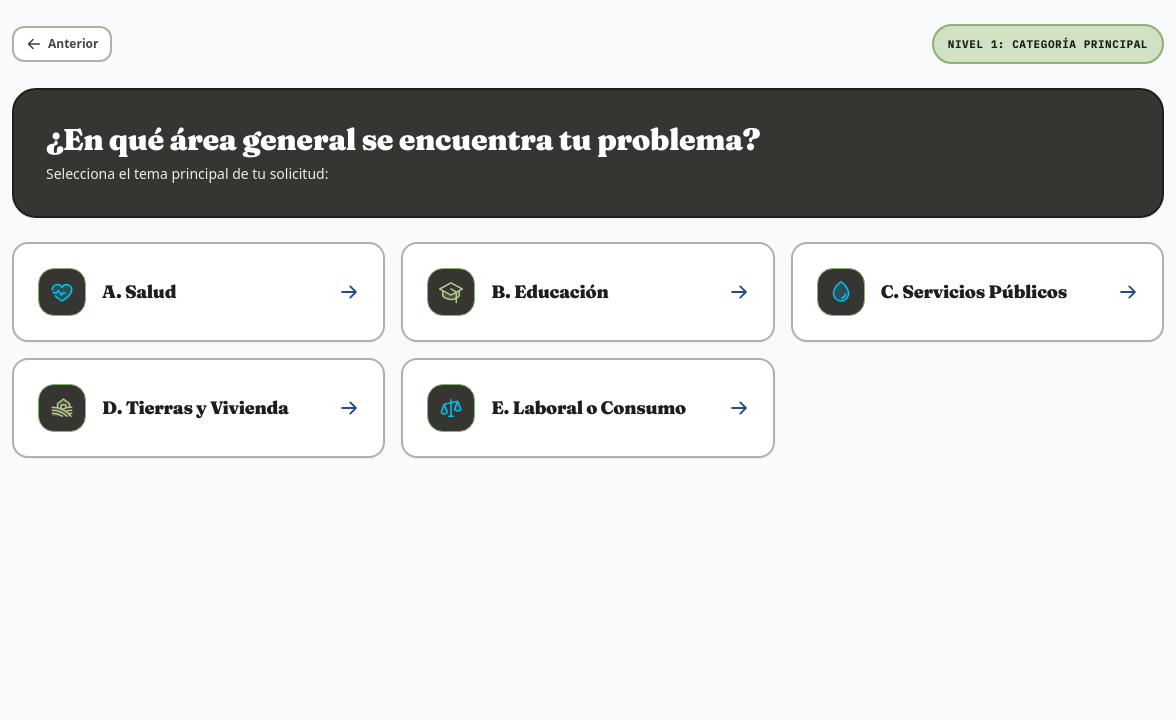
it: WizardForm Feature & Acceptance Criteria (R4) › TC-T2-F13-01: advances to Level 2 subcategories and blocks empty split Name(s) and Last Name(s)
Click the button "A. Salud": [62, 292] box [12, 242, 385, 342]
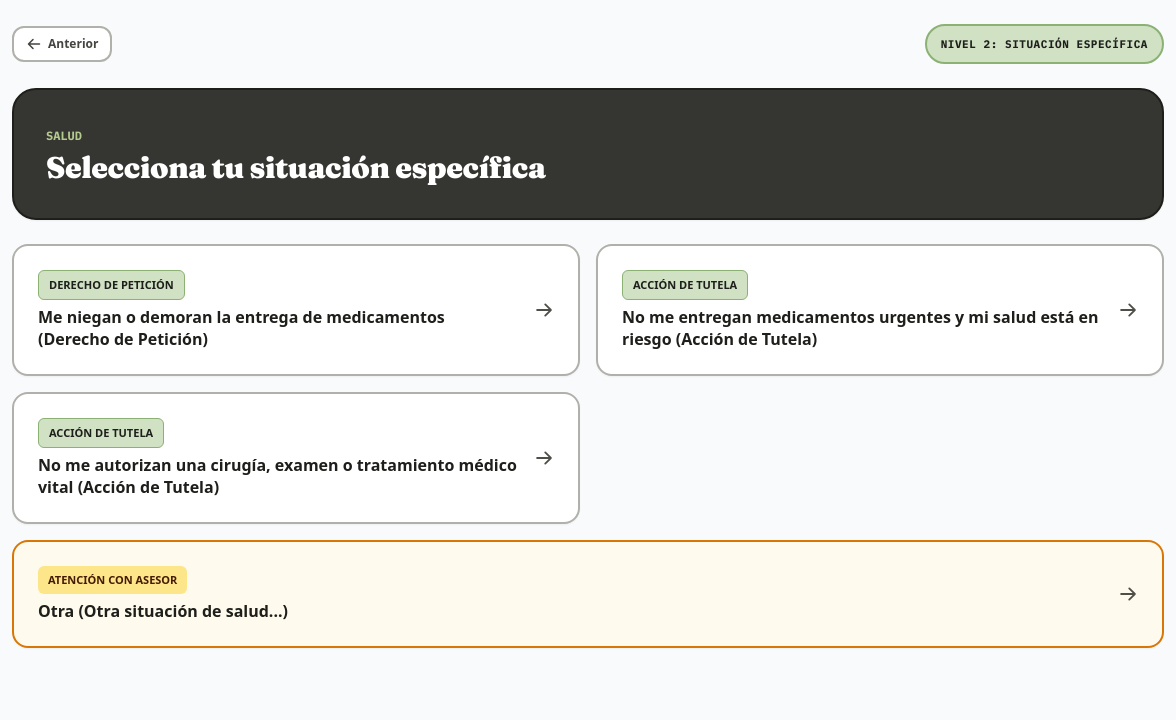
Check: the text "Nivel 2: Situación Específica" is shown, box [925, 24, 1164, 64]
# Seleccionar subcategoría de Derecho de Petición Medicamentos
Click the button "Me niegan o demoran la entrega de medicamentos": [296, 310] box [12, 244, 580, 376]
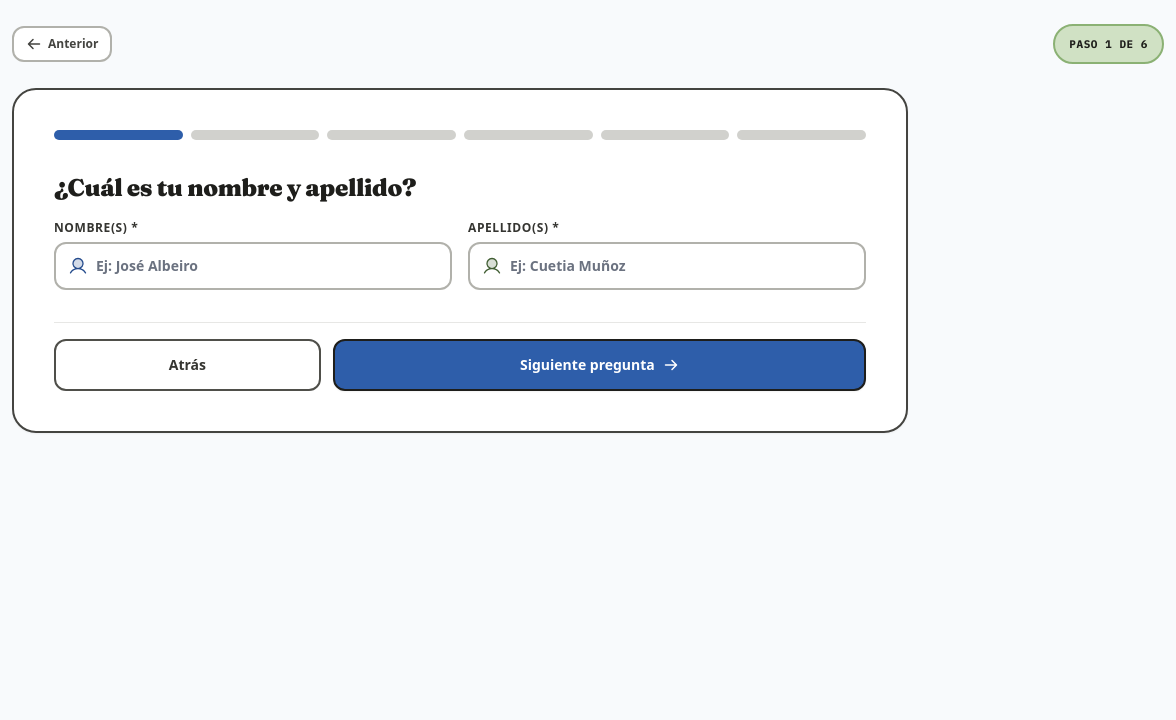
Check: the text "Paso 1 de 6" is shown, box [1053, 24, 1164, 64]
Click the button "Siguiente pregunta": [599, 365] box [333, 339, 866, 391]
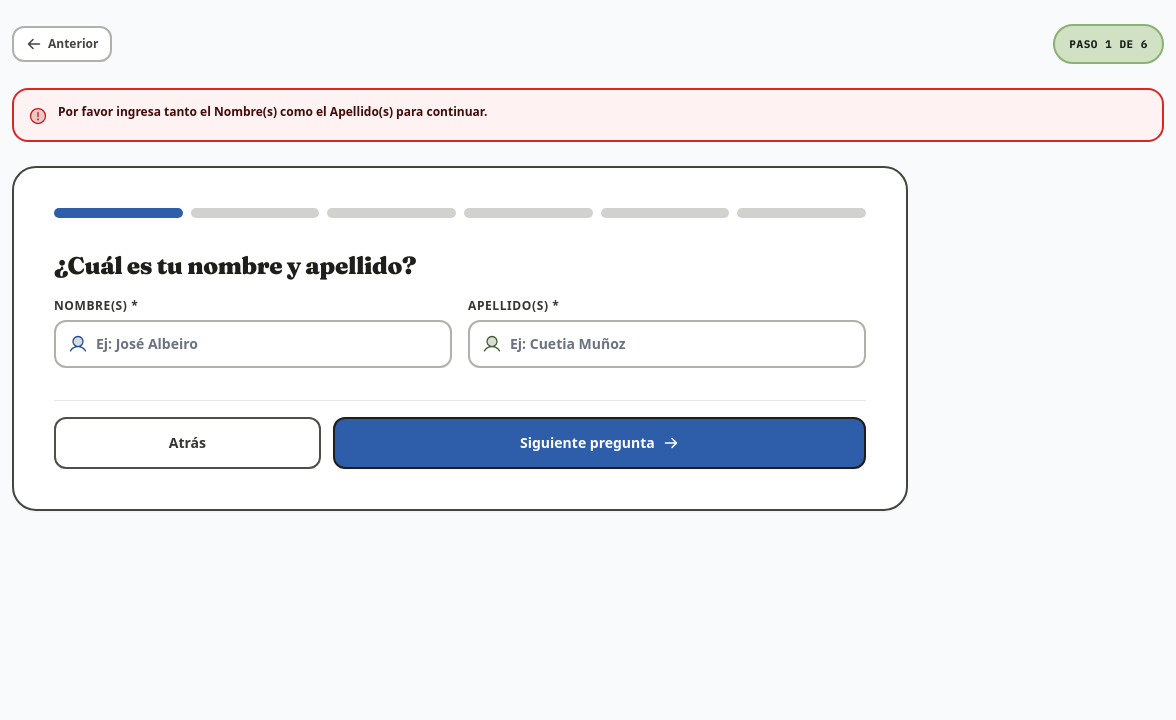
Check: the message shows "Por favor ingresa tanto el Nombre(s) como el Apellido(s)", box [58, 103, 488, 120]
